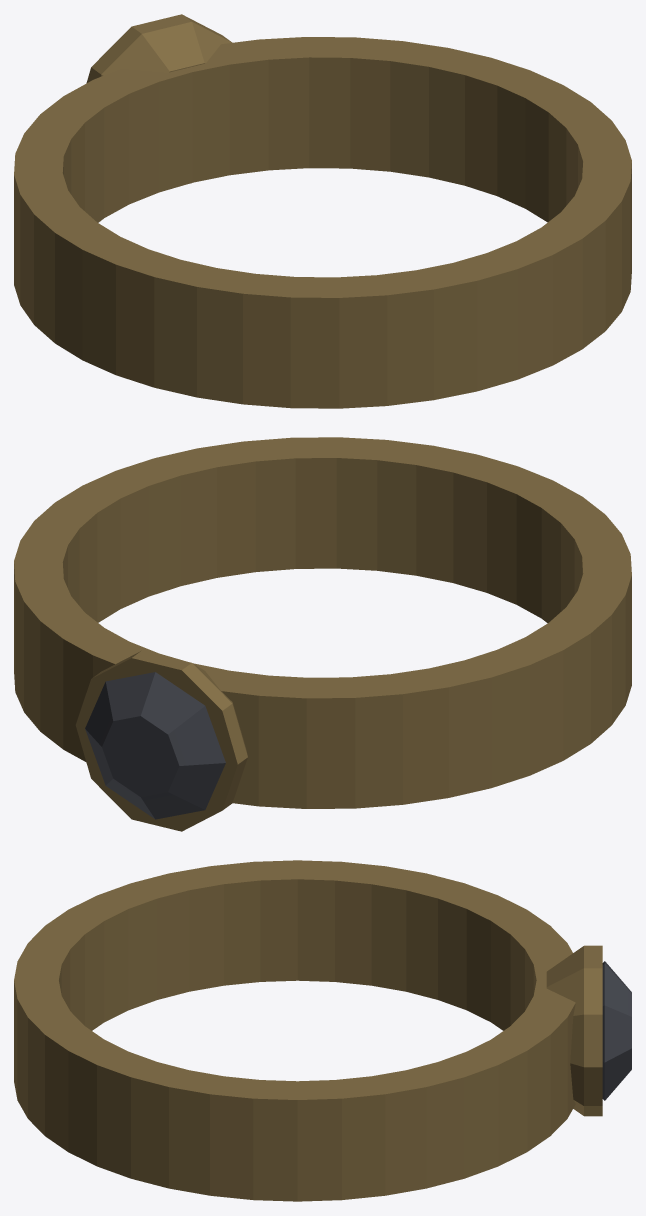
Rendered from ring_tarnished.glb.
The picture shows the model from 3 angles, top to bottom: view 1: azimuth 30°, elevation 25°; view 2: azimuth 150°, elevation 25°; view 3: azimuth 270°, elevation 25°; orthographic projection. The views are drawn at different scales.
Parts seen in each view (by area): view 1: Ring_Tarnished_Tarnished; view 2: Ring_Tarnished_Tarnished, Ring_Tarnished_Darksteel; view 3: Ring_Tarnished_Tarnished, Ring_Tarnished_Darksteel.
Boxes of the visible parts, bbox=[...] form: Ring_Tarnished_Tarnished: bbox=[14, 14, 631, 408]; Ring_Tarnished_Tarnished: bbox=[14, 437, 631, 831]; Ring_Tarnished_Darksteel: bbox=[85, 672, 225, 819]; Ring_Tarnished_Tarnished: bbox=[14, 860, 602, 1201]; Ring_Tarnished_Darksteel: bbox=[602, 961, 631, 1100].
Size of the model in its own units: 0.0228 by 0.00656 by 0.0248.
